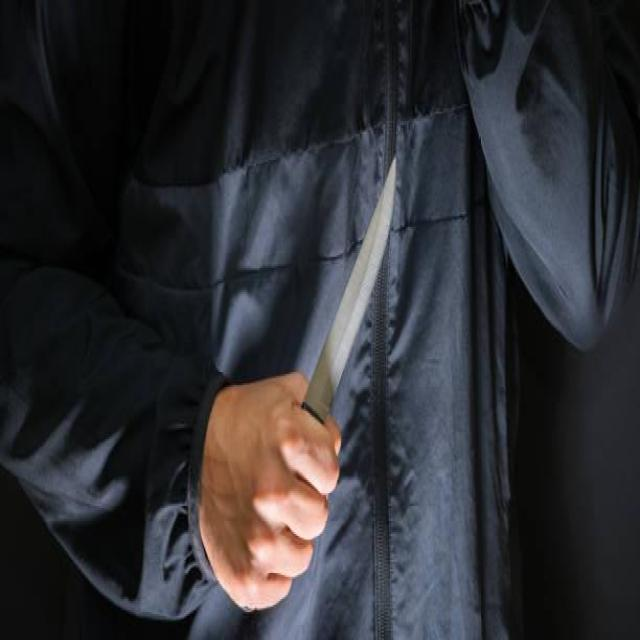faca: (200, 147, 400, 610)
